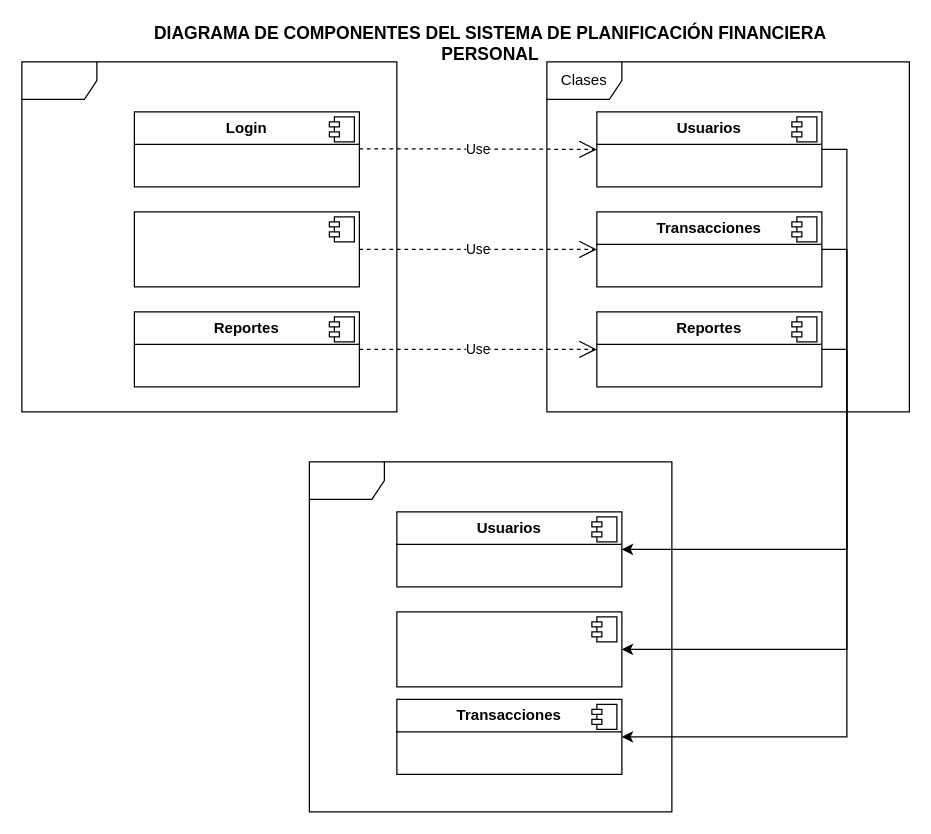
Some shapes in this 931 by 834 pixel diagram are drawn without their labels. Each missing label, with the box of its shape:
Datos: (308, 461, 672, 812)
Ingresos / Egresos: (396, 611, 622, 687)
Transacciones / Dashboard: (133, 211, 359, 287)
Vistas: (21, 61, 397, 412)
